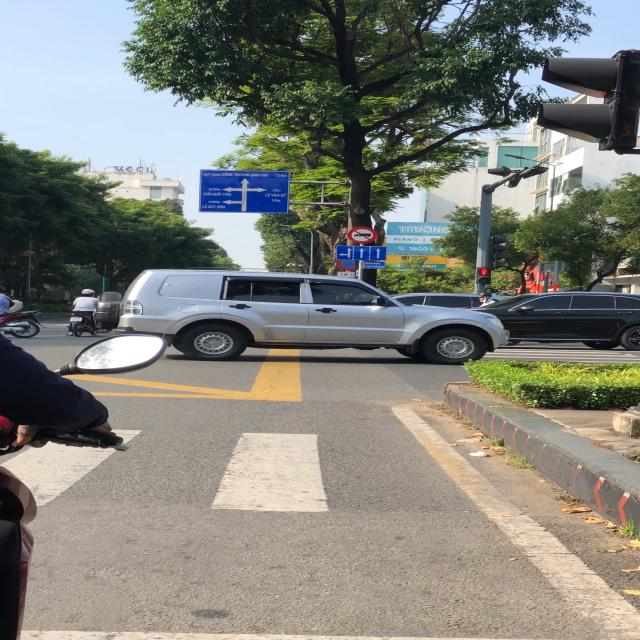Bien bao cam xe so-mi ro-mooc: (346, 225, 381, 245)
